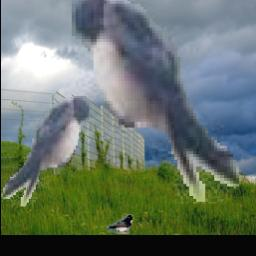Swallow: (72, 0, 241, 204), (2, 96, 91, 207), (107, 215, 132, 235)
